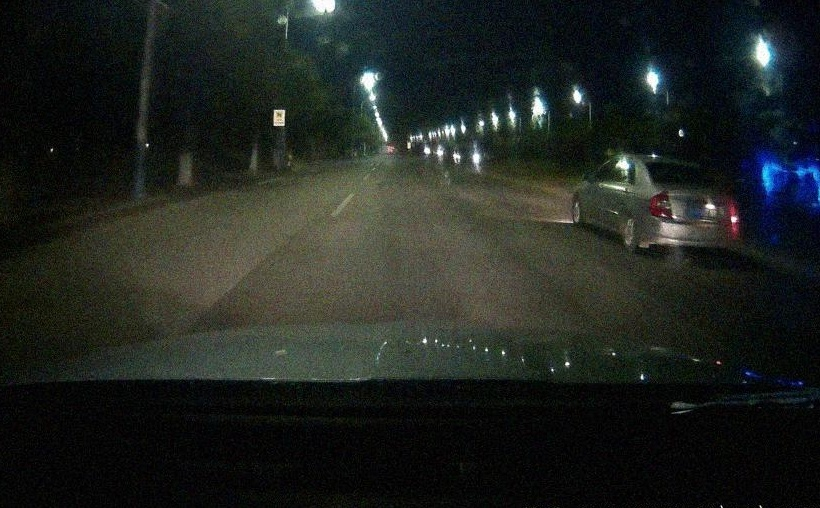L_light: (647, 192, 672, 219)
R_light: (724, 203, 740, 226)
T_light: (676, 163, 693, 169)
night-right: (641, 156, 740, 256)
